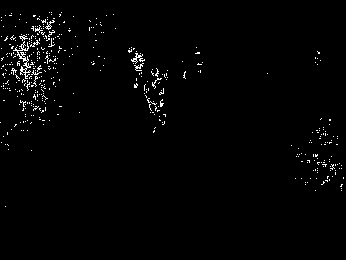person: (142, 67, 170, 134)
